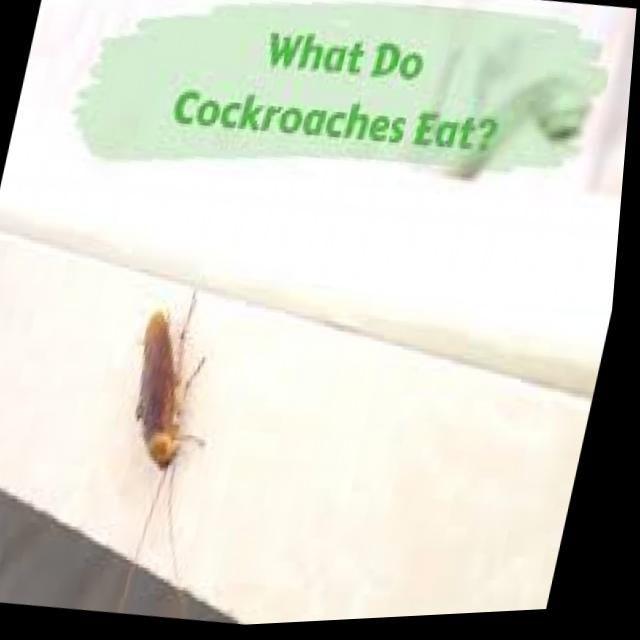Cockroach: (64, 255, 266, 597)
